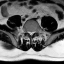CCS_normal: (30, 28, 32, 38)
LFS_normal: (34, 28, 36, 34)
LLS_normal: (32, 28, 34, 36)
RFS_normal: (26, 28, 28, 34)
RLS_normal: (28, 28, 30, 36)
